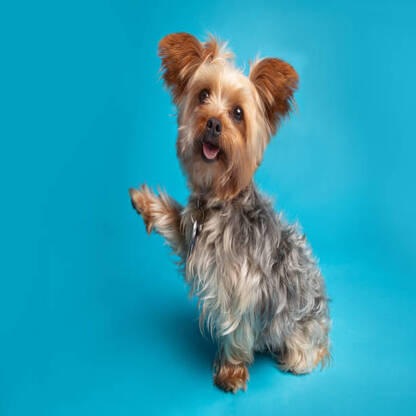yorkshire: (128, 30, 332, 392)
